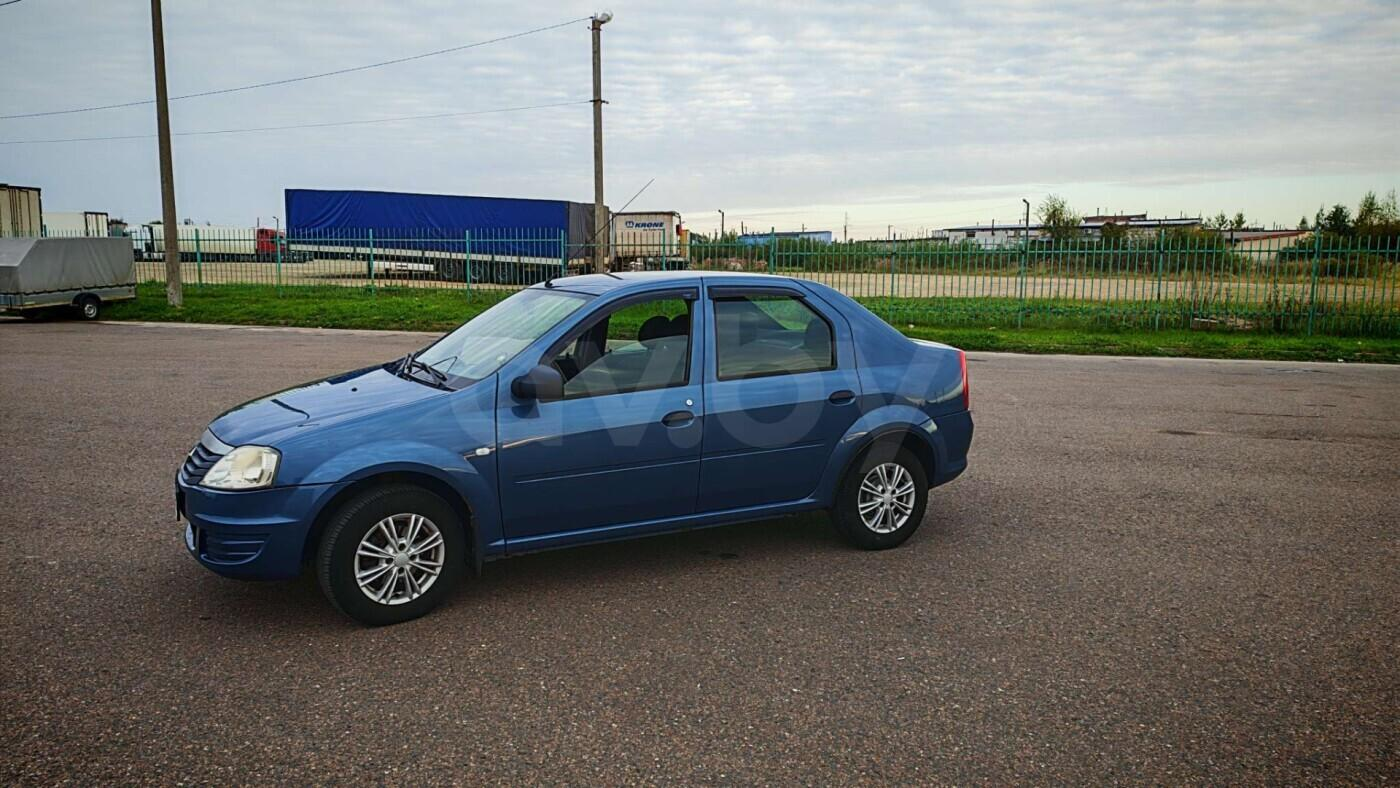Logan_2008-2015: (166, 264, 974, 624)
